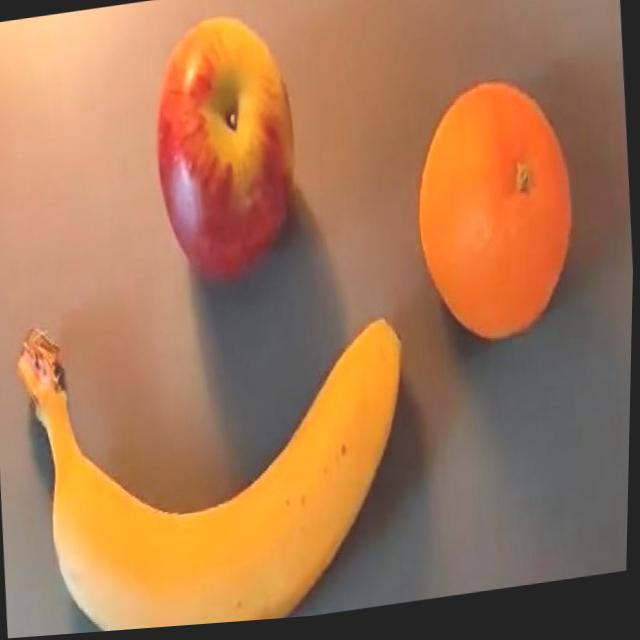Apple: (146, 10, 308, 293)
Banana: (11, 280, 424, 639)
Orange: (408, 78, 585, 358)
